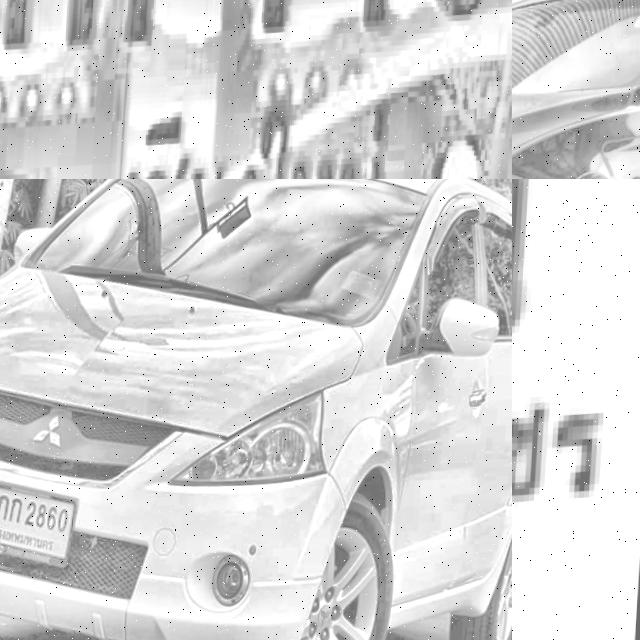license-plate: (0, 0, 512, 179), (512, 179, 640, 640), (0, 475, 78, 569)
